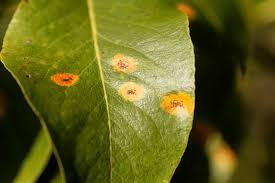leaf_spot: (20, 22, 210, 149)
